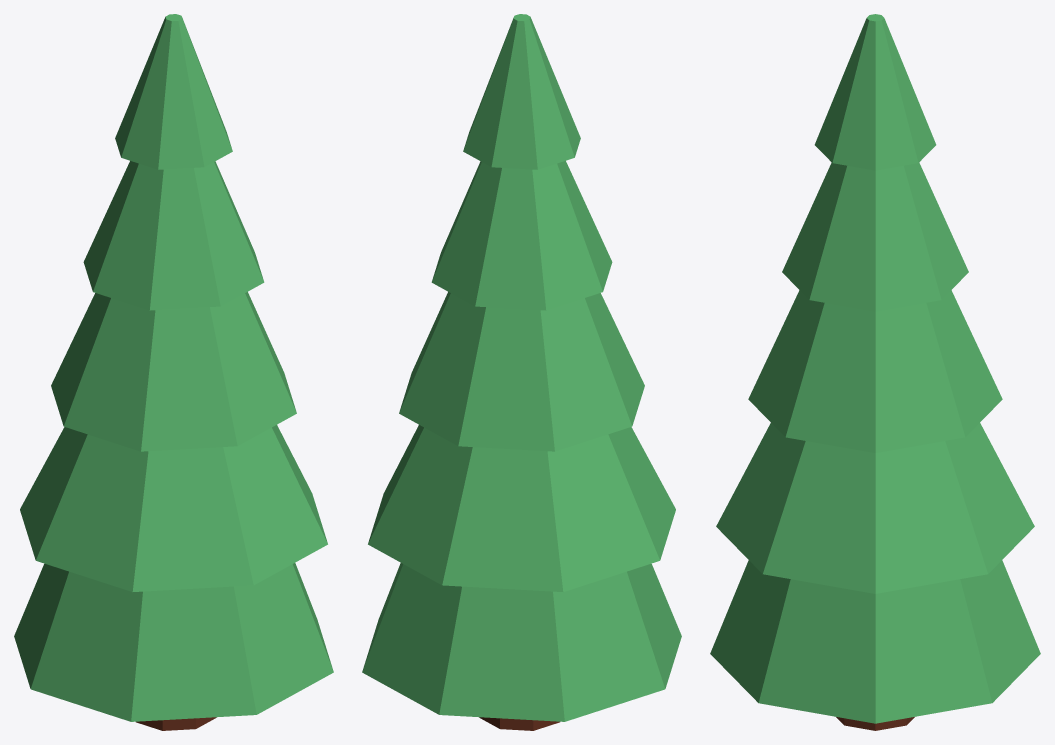
File: PineTree_C.fbx
The picture shows the model from 3 angles, left to right: view 1: azimuth 30°, elevation 25°; view 2: azimuth 150°, elevation 25°; view 3: azimuth 270°, elevation 25°; orthographic projection.
Visible parts, largest first — view 1: PineTree_C; view 2: PineTree_C; view 3: PineTree_C.
Boxes of the visible parts, x1,y1,x2,y2 form: PineTree_C: (14,14,333,730); PineTree_C: (362,14,681,730); PineTree_C: (710,14,1040,730).
Bounding box in the file's own units: 105 × 244 × 105.
